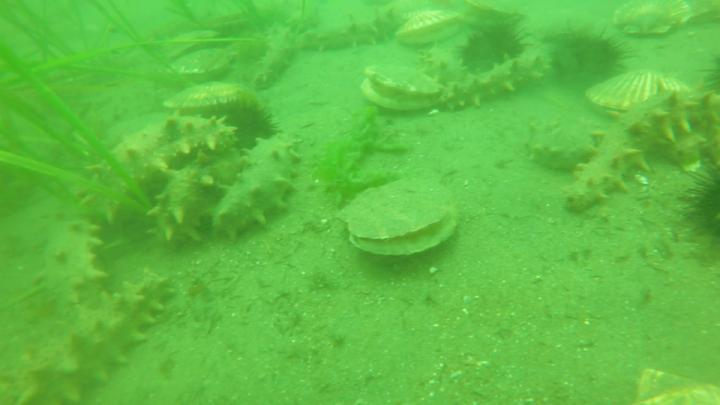echinus: (546, 23, 636, 87), (684, 154, 720, 261), (459, 23, 533, 72), (214, 97, 279, 147)
holothurian: (14, 269, 178, 405), (562, 85, 708, 214), (82, 116, 240, 230), (213, 134, 303, 245), (150, 149, 244, 251), (39, 209, 112, 317), (443, 49, 544, 116), (302, 13, 402, 55), (527, 116, 600, 170), (252, 28, 308, 91), (424, 41, 471, 89)
scallop: (332, 171, 462, 260), (360, 55, 446, 120), (587, 66, 698, 116), (610, 1, 697, 39), (163, 80, 254, 115), (394, 7, 464, 48), (167, 43, 235, 80), (460, 1, 533, 28)
waterweeds: (2, 1, 267, 209)
